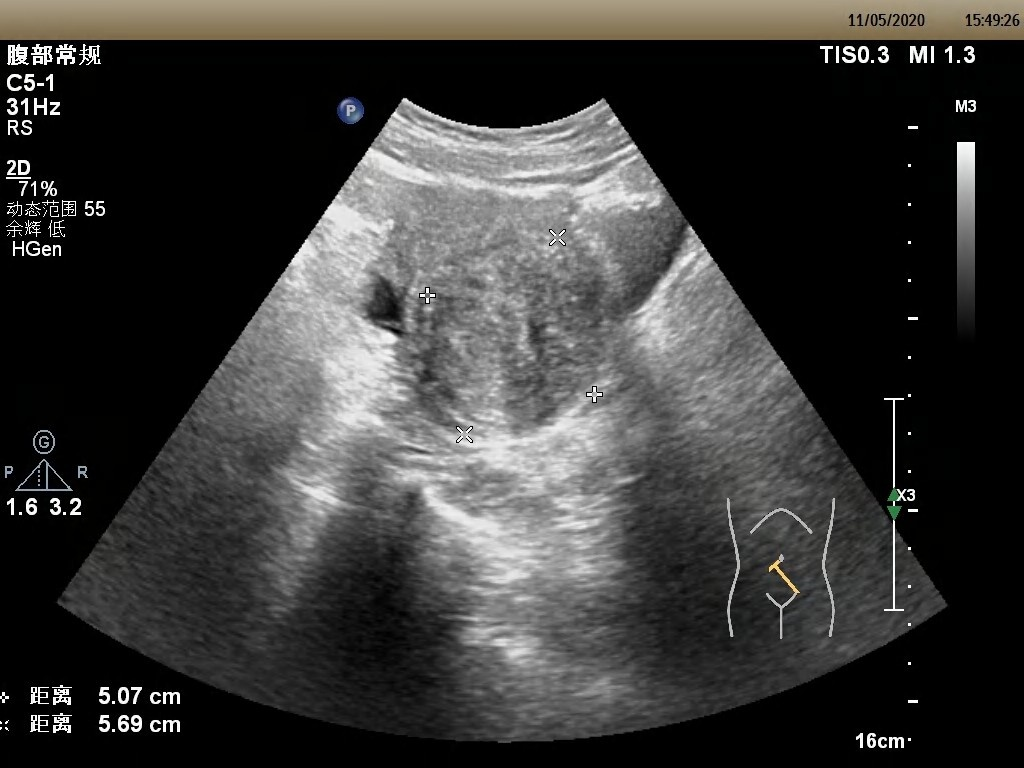肌瘤: (419, 230, 611, 446)
